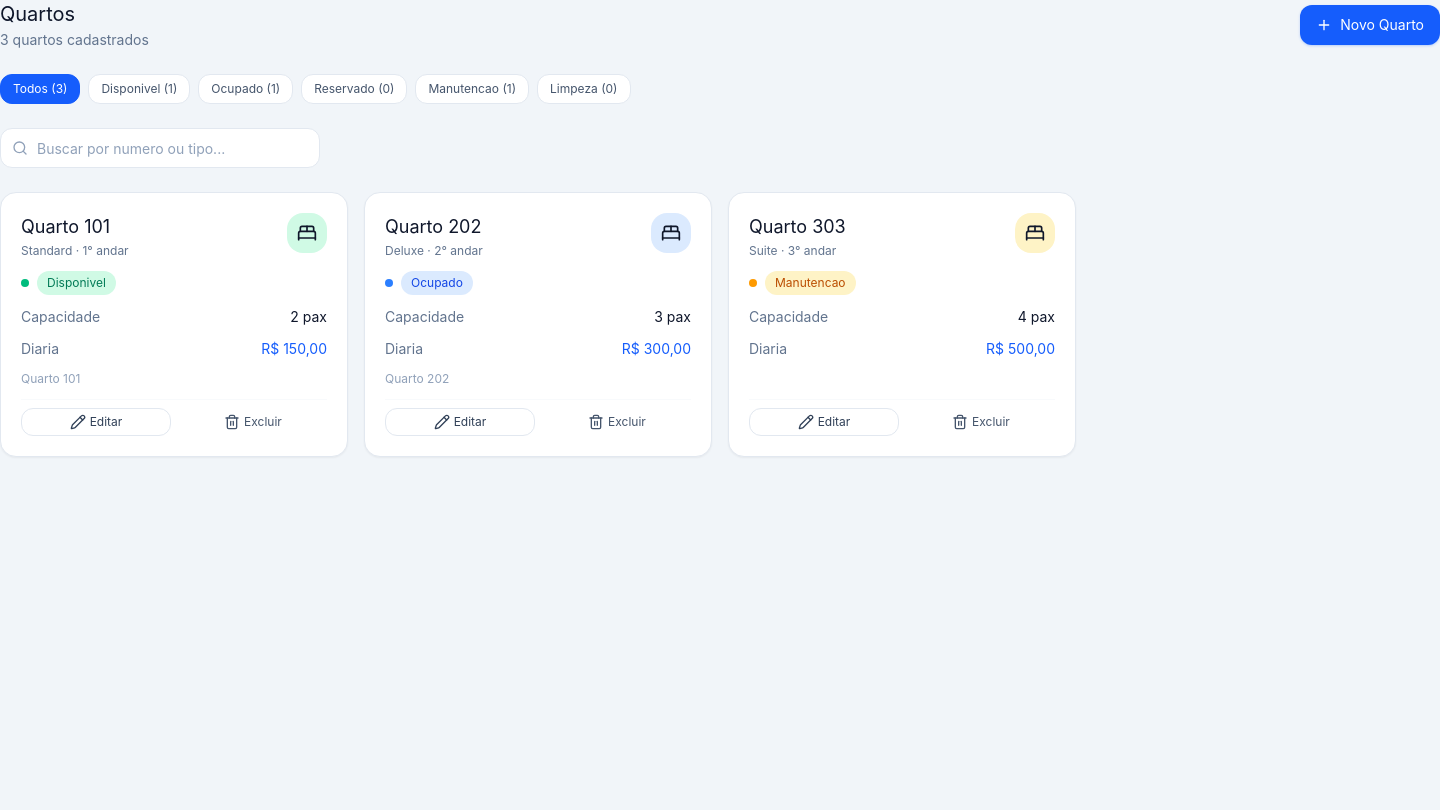
Scenario: Quartos (expanded) › opens edit quarto modal on edit click
This screenshot has width=1440, height=810.
Click the button "Editar" below "R$ 150,00": (96,422) [21, 408, 171, 436]
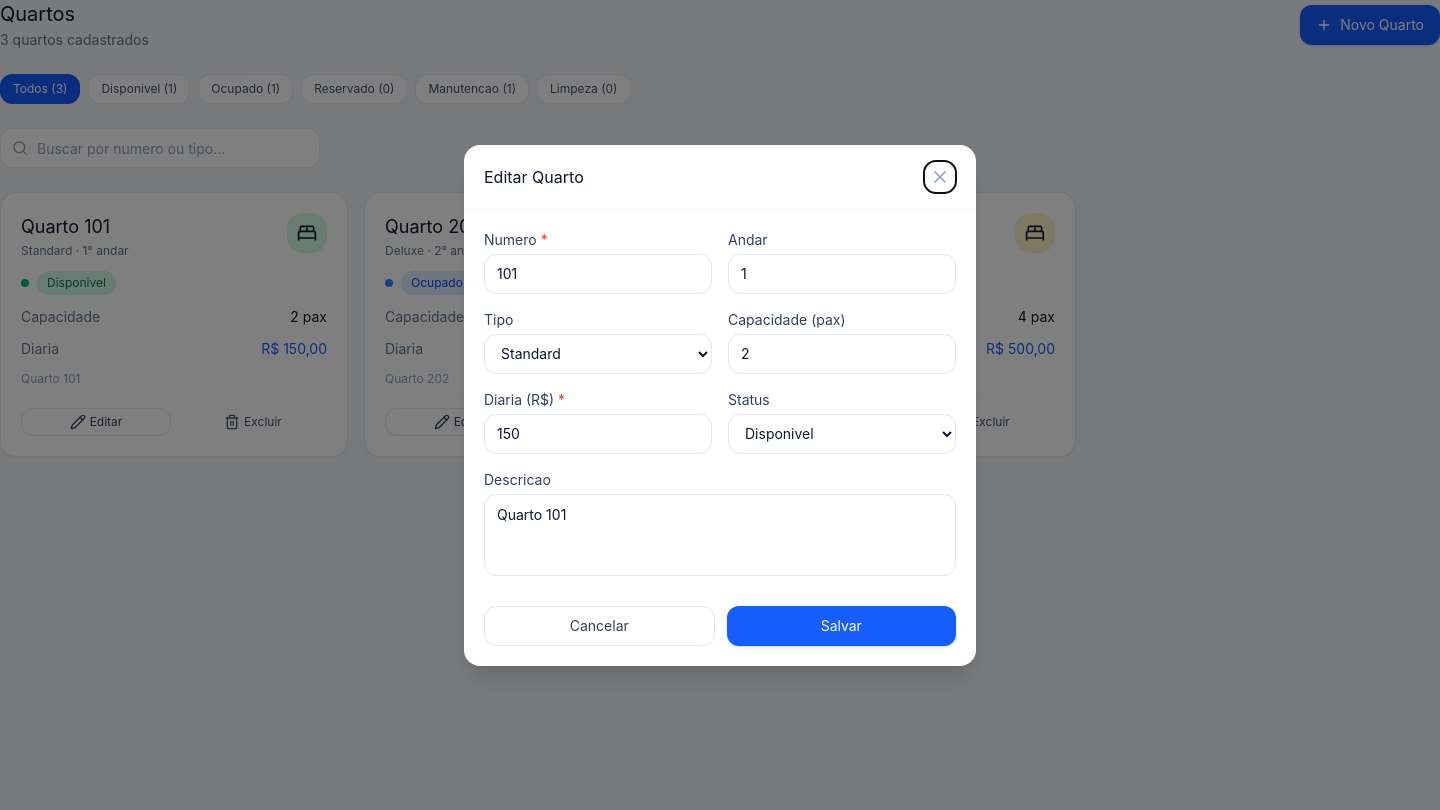
Result: the button "Salvar" is shown at [726, 606, 956, 646]
